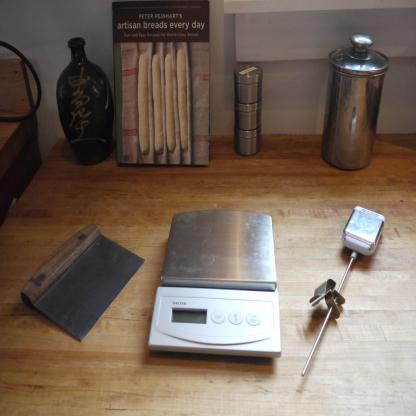vase: (56, 37, 116, 166)
